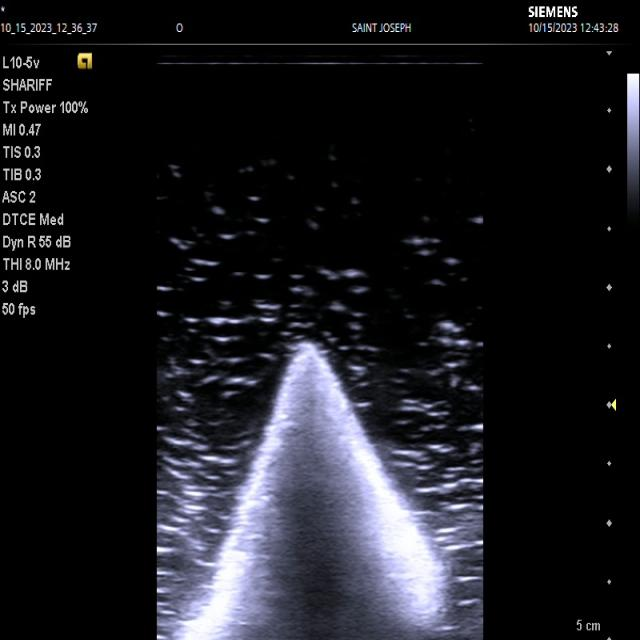tissue: (178, 340, 451, 640)
